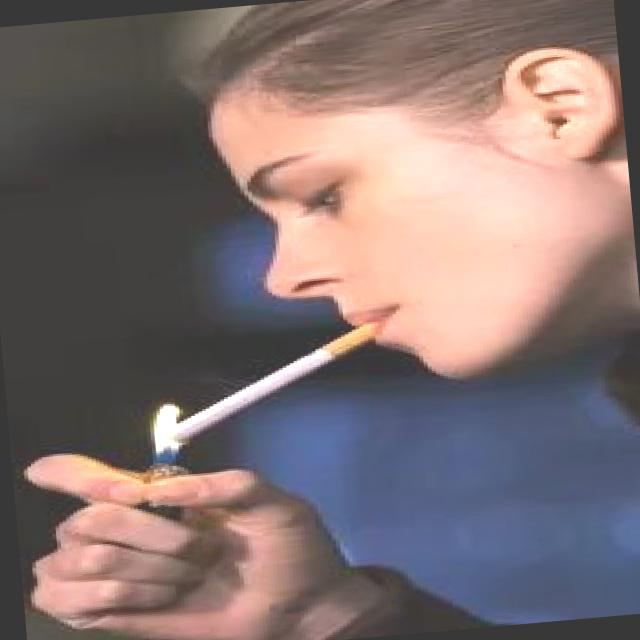smoke: (142, 316, 395, 449)
